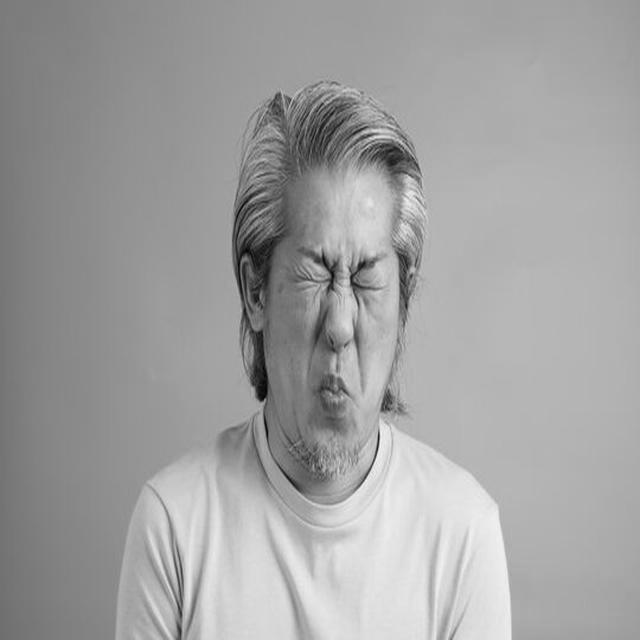Disgust: (263, 154, 404, 482)
